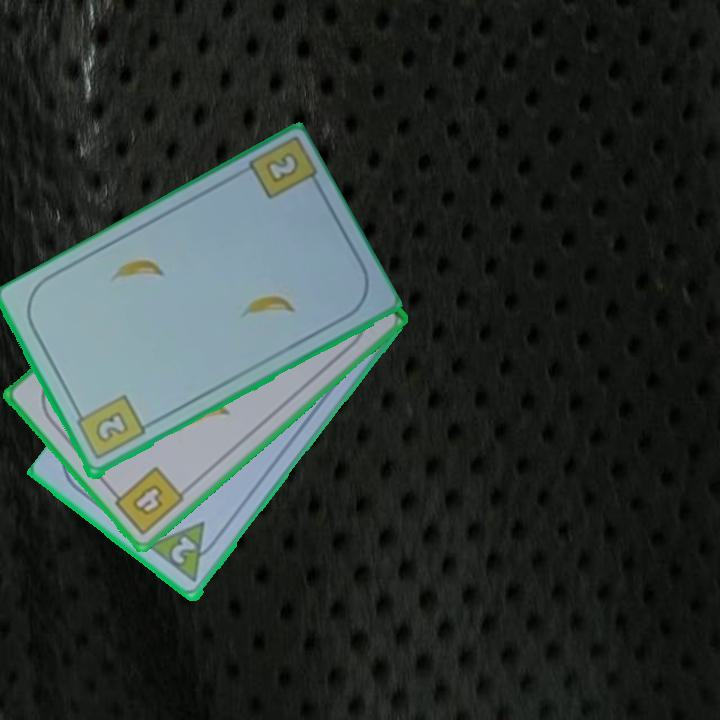2b: (71, 392, 148, 463), (265, 152, 299, 183)
2p: (146, 518, 224, 587)
4b: (105, 463, 187, 538)
